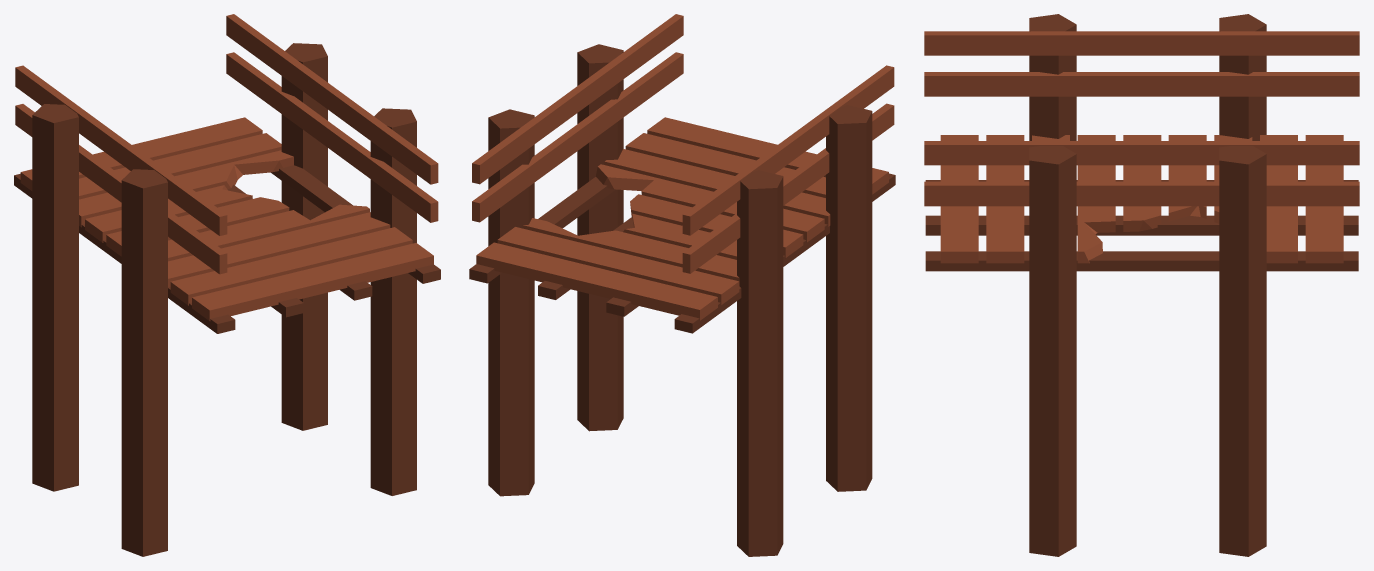
The model's file is Trozo 3 Puente.fbx.
3 views of the same model, side by side, from view 1: azimuth 30°, elevation 25°; view 2: azimuth 150°, elevation 25°; view 3: azimuth 270°, elevation 25° (orthographic). The views are drawn at different scales.
Parts seen in each view (by area): view 1: Cube.001, Cylinder, Cylinder.002, Cylinder.001, Cylinder.003, Cube.004, Cube.003, Cube.006, Cube, Cube.005; view 2: Cube.001, Cylinder.002, Cylinder, Cylinder.003, Cylinder.001, Cube.004, Cube.003, Cube.006, Cube, Cube.005; view 3: Cylinder.001, Cylinder.003, Cube.001, Cube.006, Cube.005, Cube.004, Cube.003, Cube, Cylinder, Cylinder.002.
Boxes of the visible parts, x1,y1,x2,y2 form: Cube.001: [20, 117, 433, 320]; Cylinder: [121, 169, 167, 556]; Cylinder.002: [32, 104, 78, 491]; Cylinder.001: [370, 108, 416, 495]; Cylinder.003: [281, 43, 327, 430]; Cube.004: [226, 14, 438, 184]; Cube.003: [226, 52, 438, 222]; Cube.006: [15, 65, 227, 235]; Cube: [14, 165, 440, 333]; Cube.005: [15, 104, 227, 274]; Cube.001: [476, 117, 888, 320]; Cylinder.002: [737, 170, 783, 556]; Cylinder: [826, 105, 872, 491]; Cylinder.003: [488, 109, 534, 496]; Cylinder.001: [577, 44, 623, 431]; Cube.004: [472, 14, 683, 184]; Cube.003: [472, 52, 683, 222]; Cube.006: [682, 65, 894, 235]; Cube: [469, 173, 895, 333]; Cube.005: [682, 103, 894, 273]; Cylinder.001: [1029, 146, 1076, 556]; Cylinder.003: [1219, 146, 1266, 556]; Cube.001: [940, 135, 1343, 263]; Cube.006: [924, 31, 1359, 55]; Cube.005: [924, 72, 1359, 96]; Cube.004: [924, 141, 1359, 165]; Cube.003: [924, 181, 1359, 206]; Cube: [925, 180, 1358, 271]; Cylinder: [1029, 14, 1076, 140]; Cylinder.002: [1219, 14, 1266, 140].
Bounding box in the file's own units: 563 × 687 × 689.
